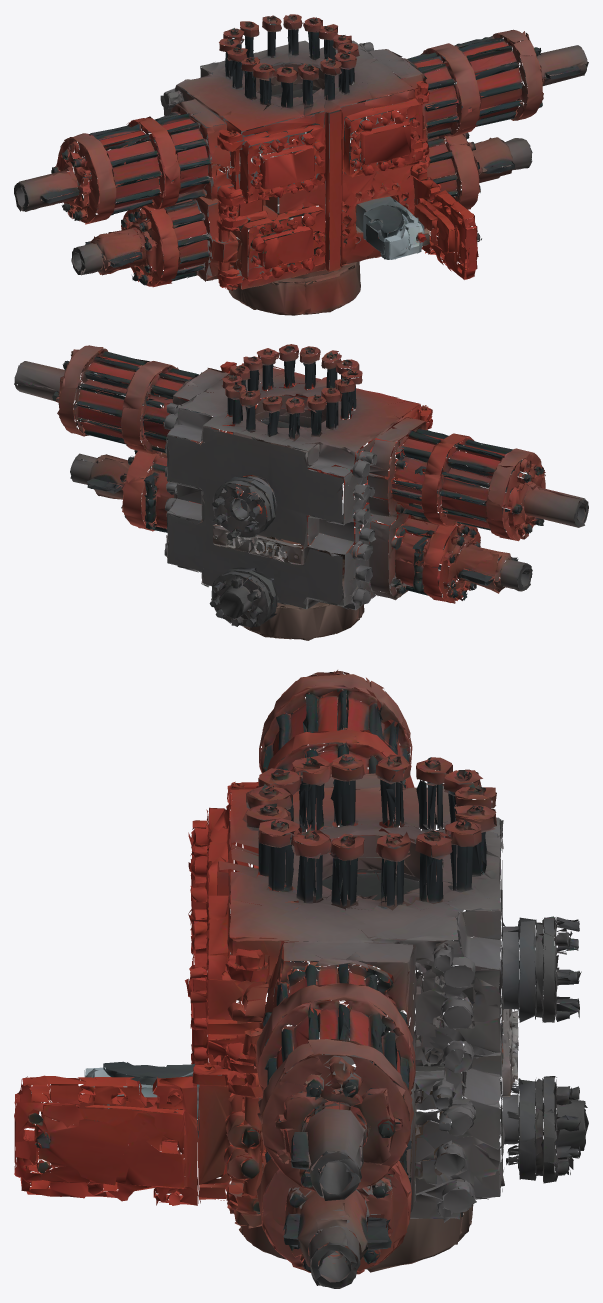
Rendered from bop_ram.glb.
3 renders of one model, top to bottom at view 1: azimuth 30°, elevation 25°; view 2: azimuth 150°, elevation 25°; view 3: azimuth 270°, elevation 25°, orthographic. The views are drawn at different scales.
Visible parts, largest first — view 1: model; view 2: model; view 3: model.
Boxes of the visible parts, bbox=[...] form: model: bbox=[14, 14, 588, 315]; model: bbox=[14, 344, 588, 640]; model: bbox=[14, 670, 588, 1288].
Size of the model in its own units: 1.99 by 0.8319 by 1.
1 material, 1 textured.
